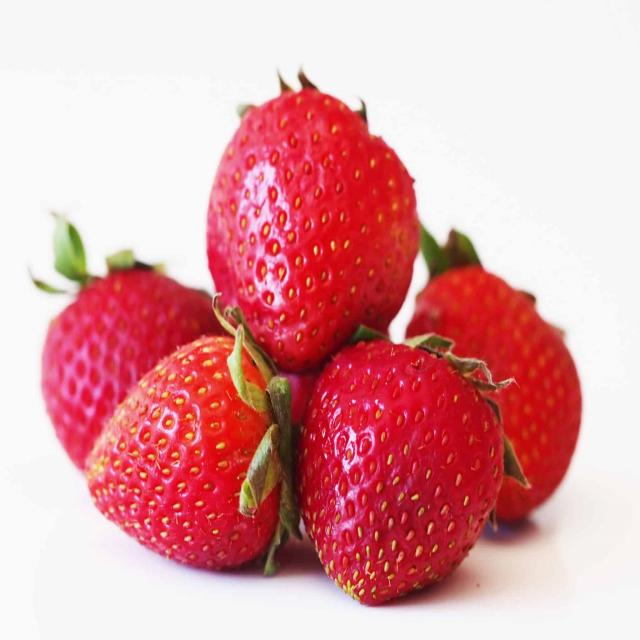strawberry: (208, 74, 423, 369), (296, 338, 510, 623), (88, 333, 294, 579), (422, 250, 585, 526), (39, 257, 228, 478)
